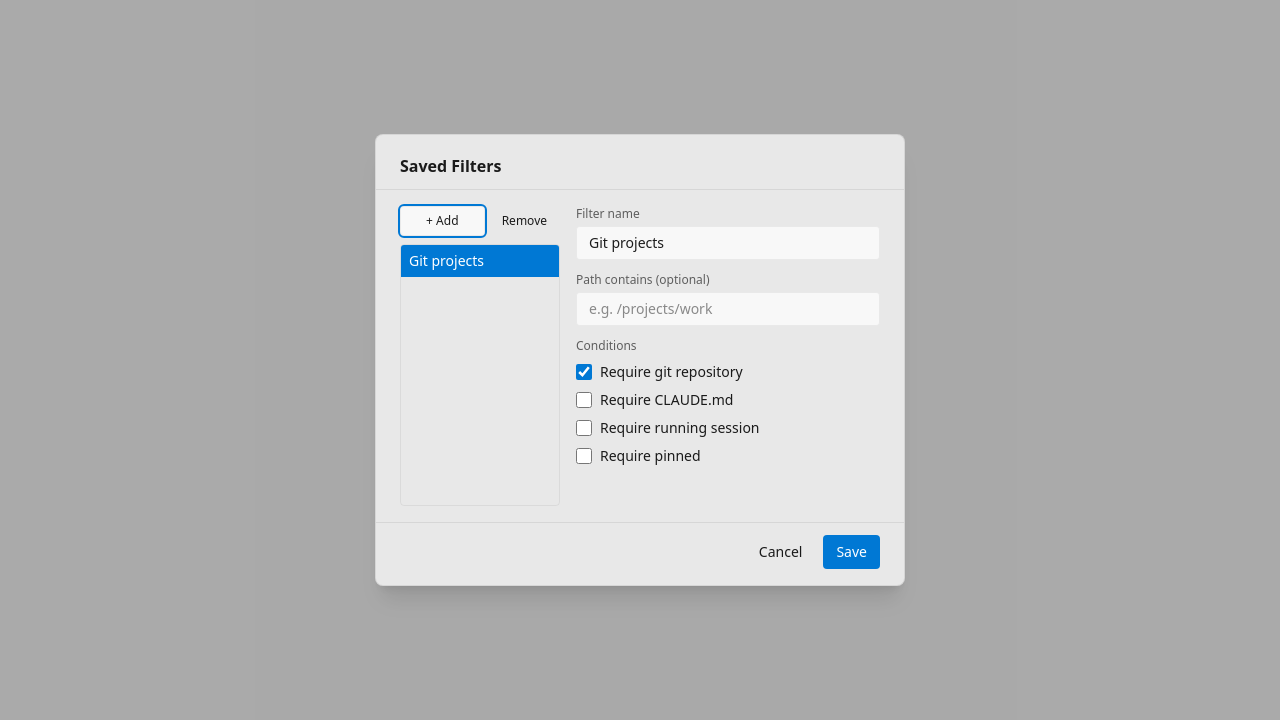
it: SavedFilterDialog › can add a new filter
This screenshot has width=1280, height=720.
Expected: the option "Git projects" is shown, x1=401 y1=245 x2=559 y2=277
Click the button "+ Add": (442, 221) x1=400 y1=206 x2=485 y2=236
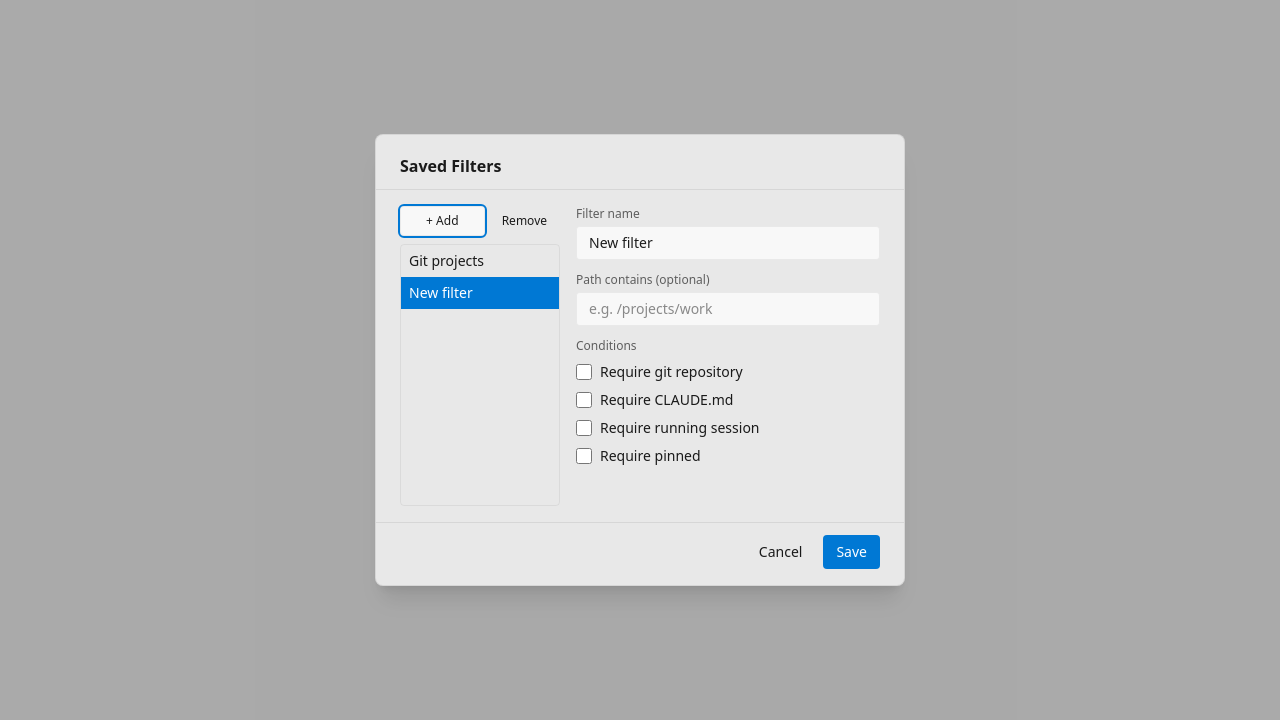
Expected: the option "New filter" is shown, x1=401 y1=277 x2=559 y2=309
